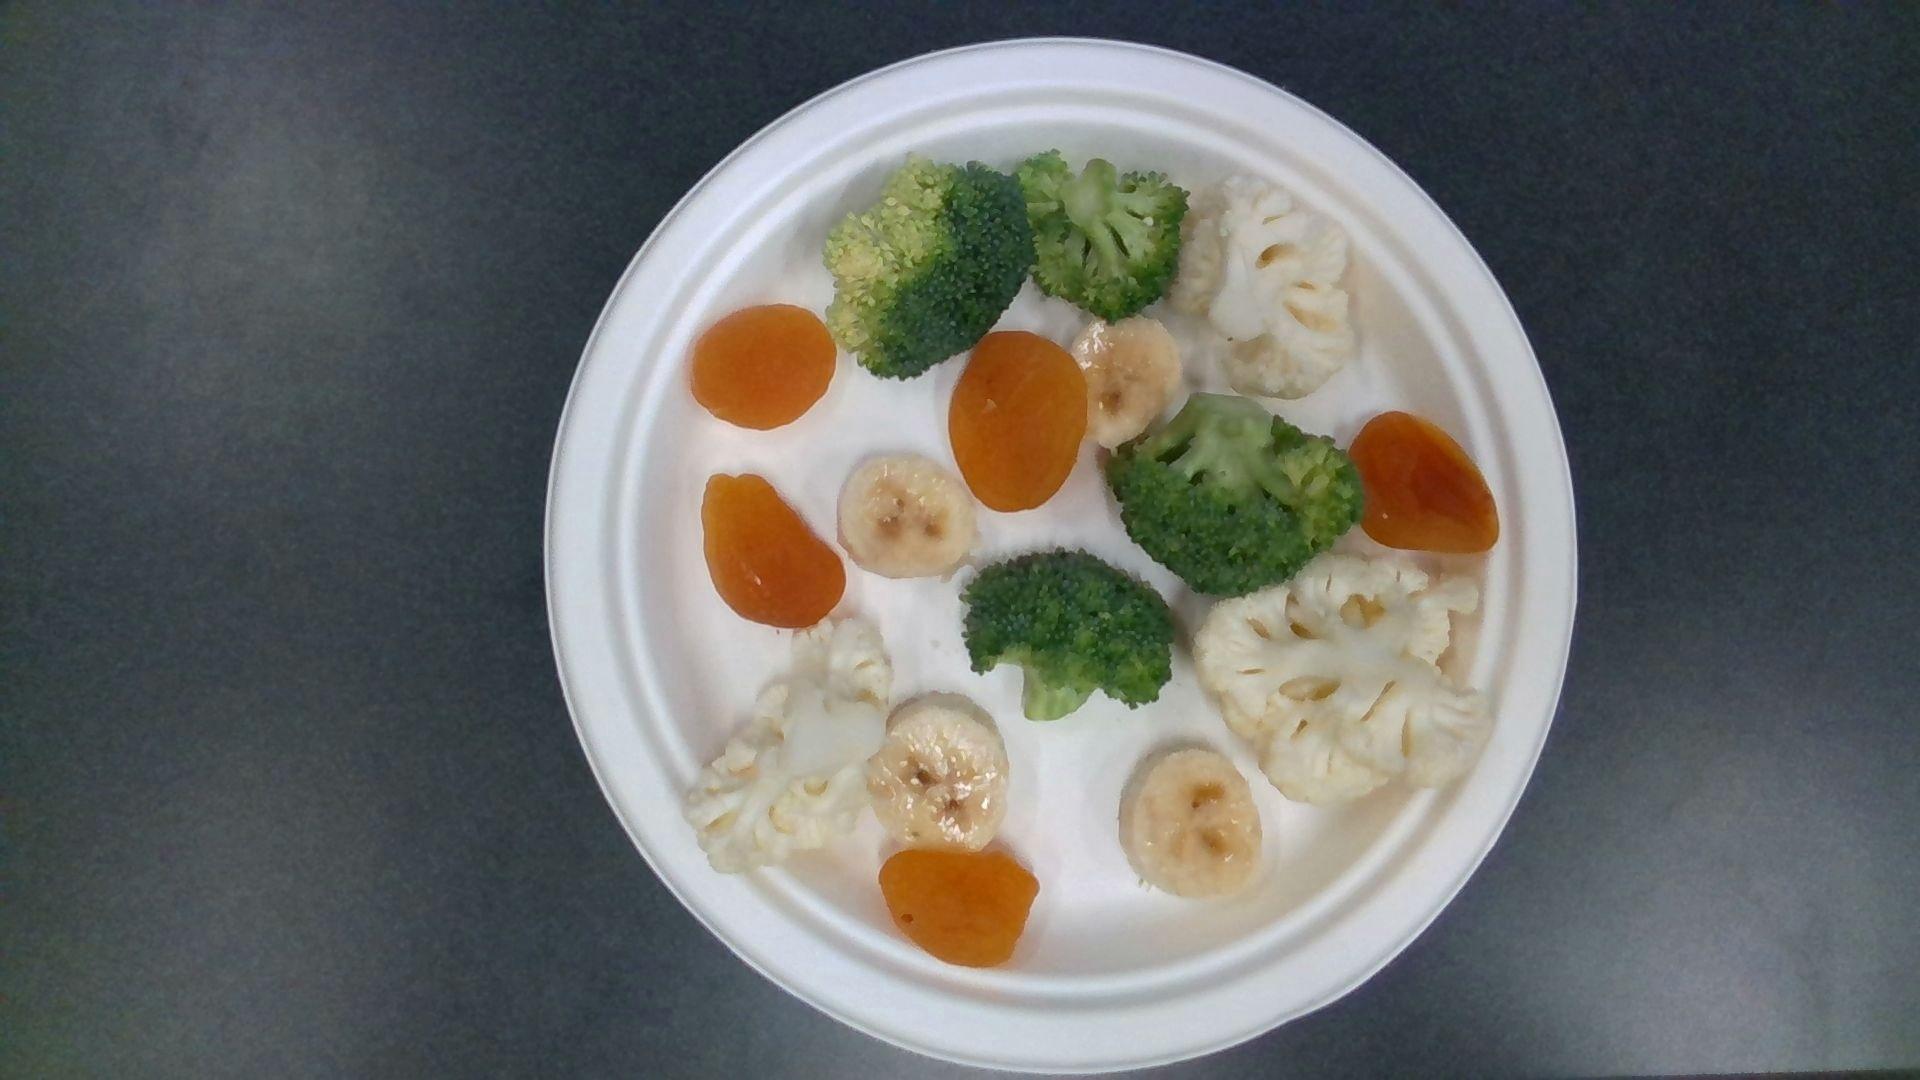apricot: (949, 334, 1087, 512), (700, 473, 845, 625), (1352, 413, 1501, 551), (880, 851, 1039, 961), (694, 305, 835, 429)
banana: (1122, 745, 1265, 898), (869, 696, 1010, 851), (835, 455, 978, 580), (1069, 318, 1180, 444)
broccoli: (1102, 396, 1356, 589), (827, 158, 1039, 378), (965, 553, 1170, 716), (1017, 152, 1187, 316)
cauliflower: (1197, 560, 1490, 800), (684, 626, 891, 870), (1172, 175, 1352, 393)
